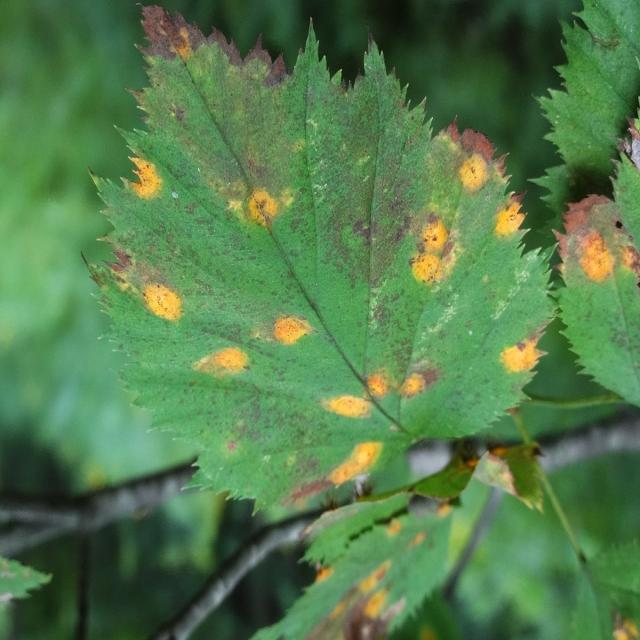Gymnosporangium_Rusts: (95, 7, 640, 640)
